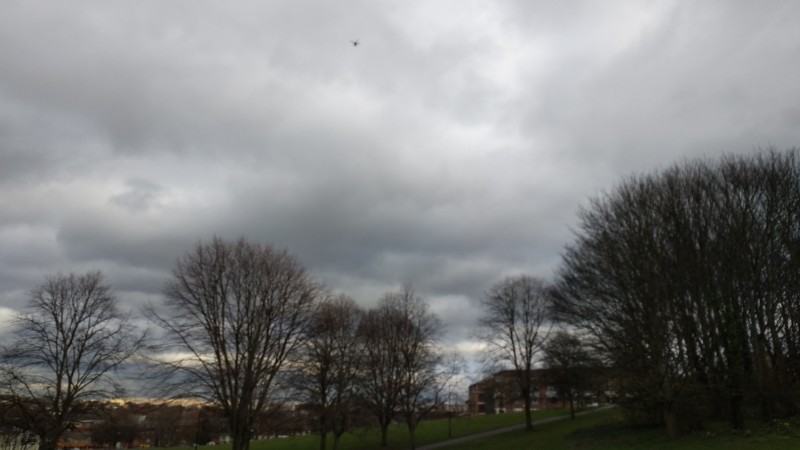drone: (349, 37, 360, 48)
